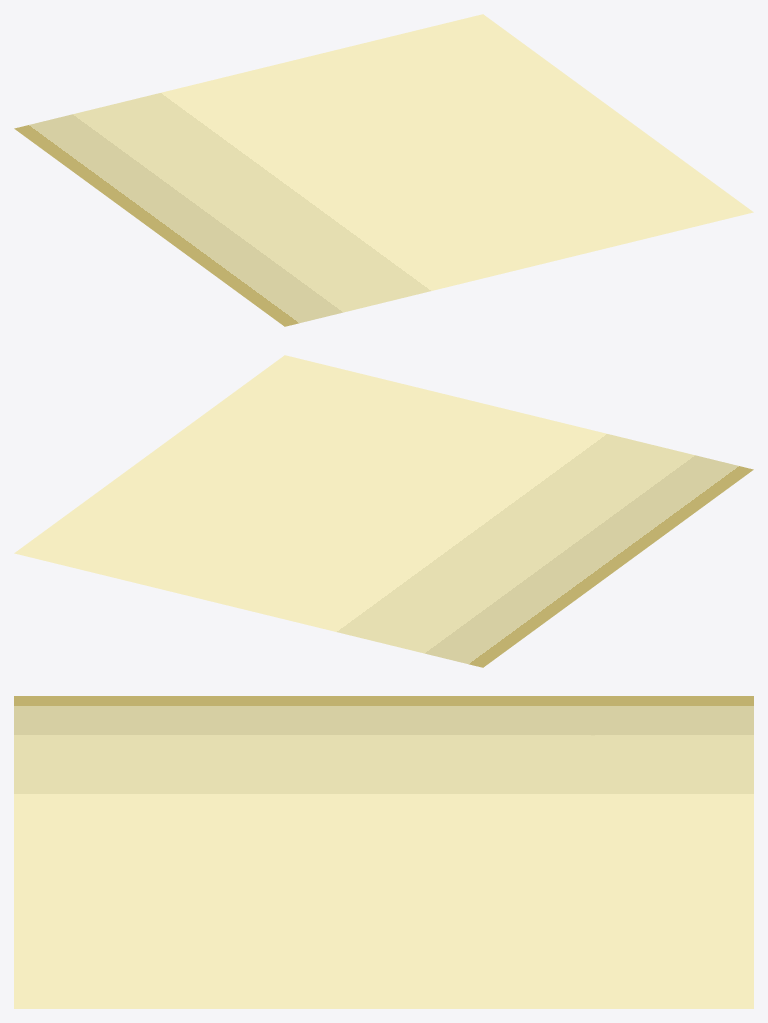
3 renders of one model, top to bottom at view 1: azimuth 30°, elevation 25°; view 2: azimuth 150°, elevation 25°; view 3: azimuth 270°, elevation 25°, orthographic. The views are drawn at different scales.
Bounding box in the file's own units: 1 × 0 × 1.
1 material, 1 textured.
